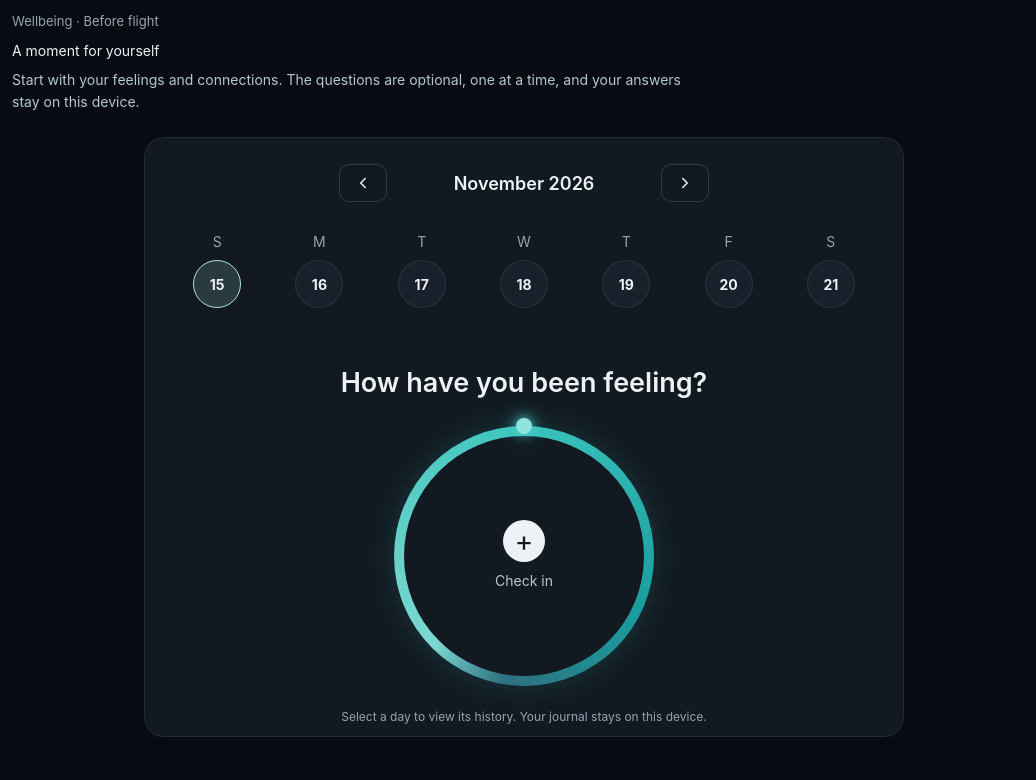
Test case: WellbeingCheckIn journal › keeps sample history but hides its label and headline for the future stage
Click the button named "Previous week": (363, 183) [339, 164, 387, 202]
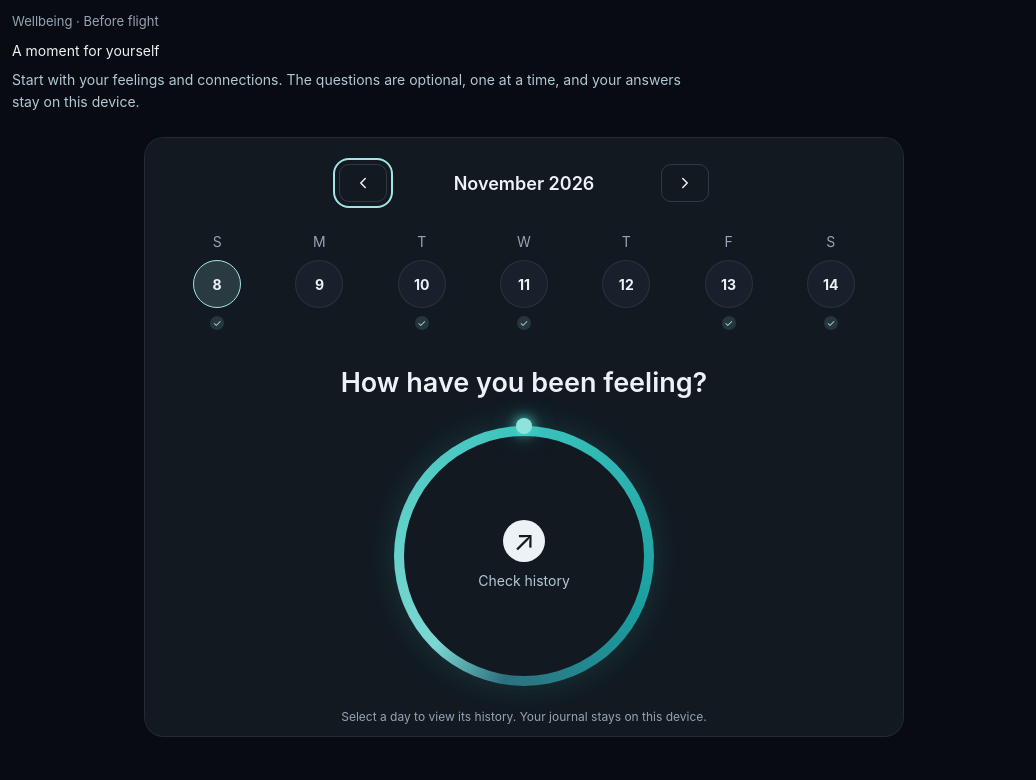
Click the button named "history available": (217, 281) [171, 224, 263, 337]
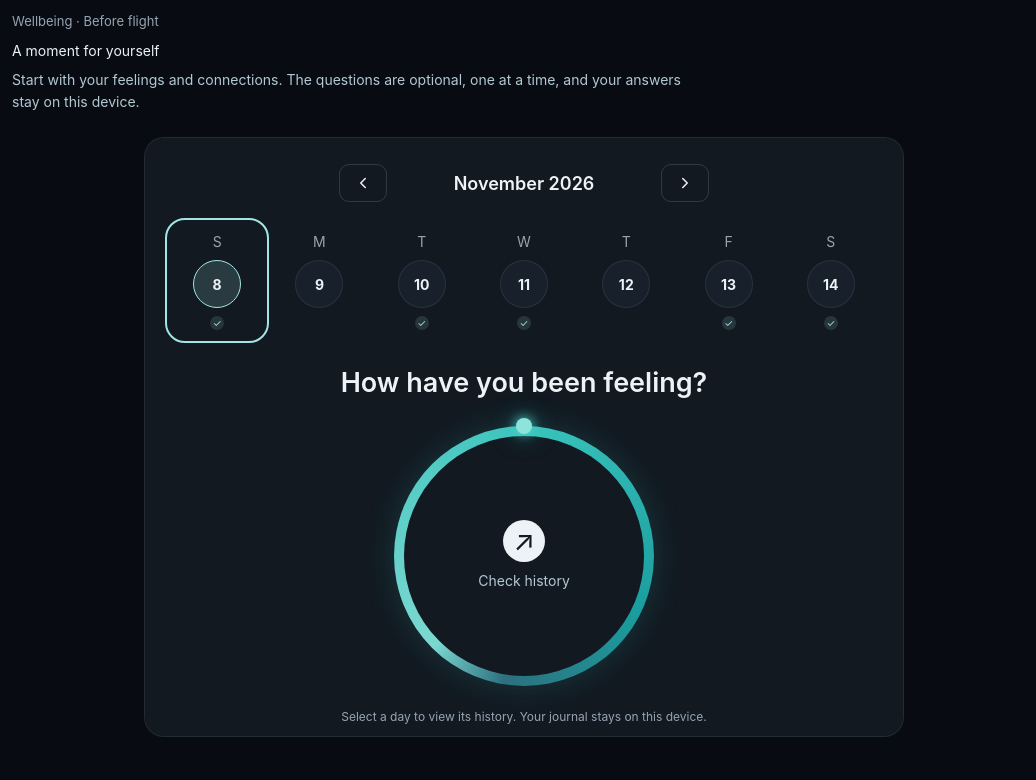
Click the button with aria-label "Check history for selected day": (524, 556) [404, 436, 644, 676]
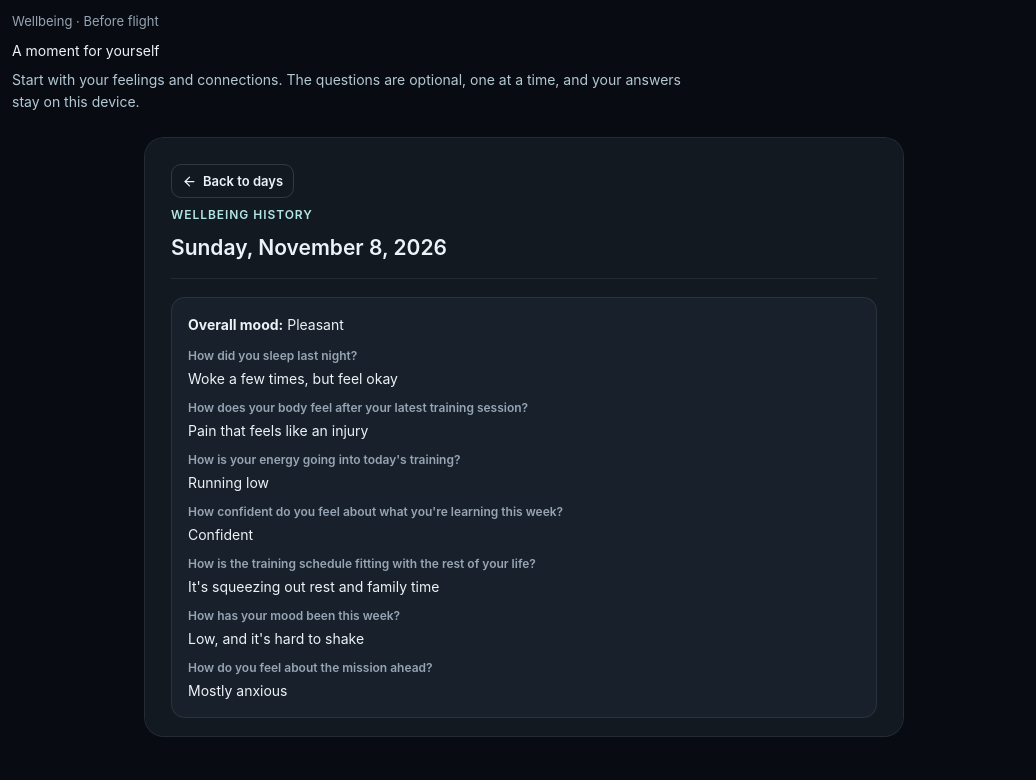
Expected: the text "Woke a few times, but feel okay" is shown, [188, 370, 398, 387]
